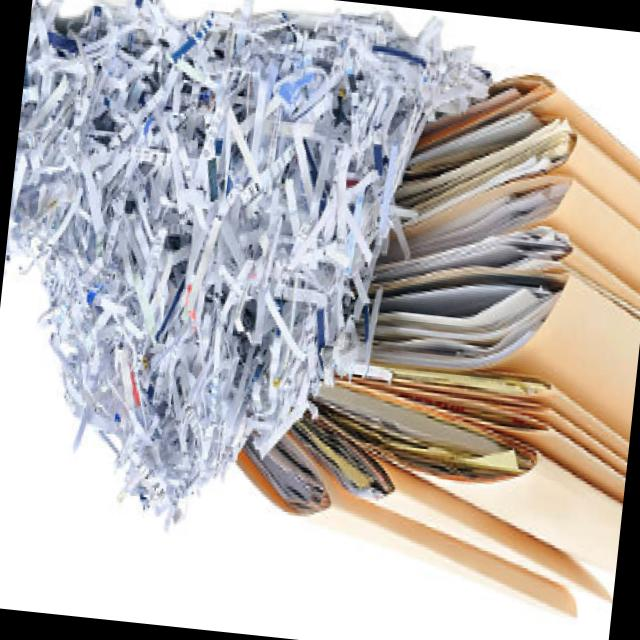KertasBekas: (0, 0, 496, 561), (221, 50, 640, 625)
